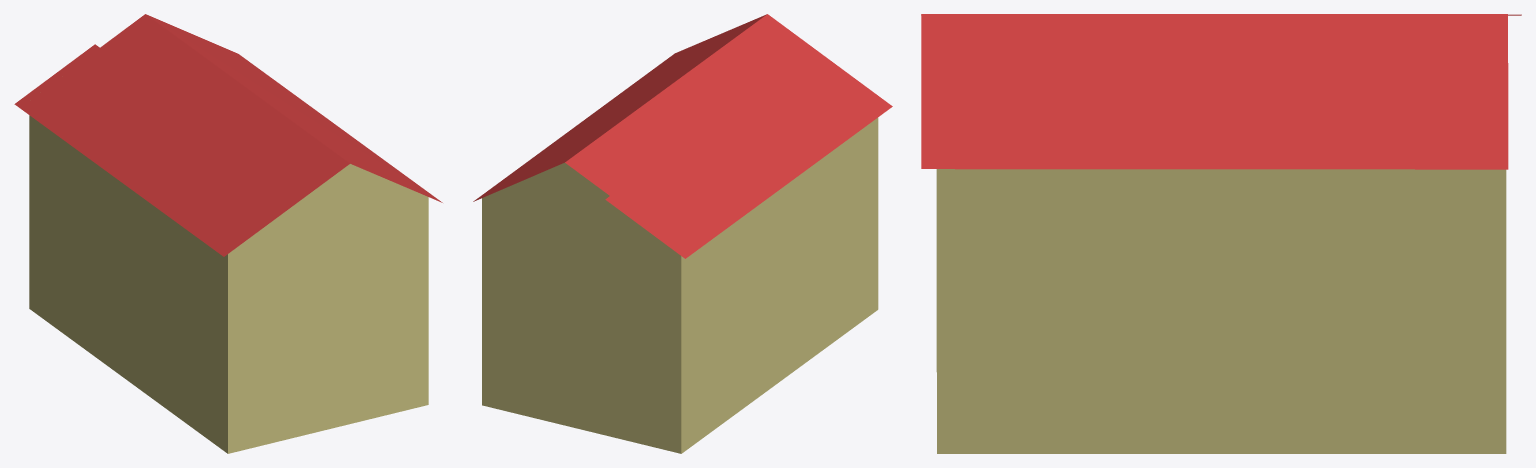
The picture shows the model from 3 angles, left to right: view 1: azimuth 30°, elevation 25°; view 2: azimuth 150°, elevation 25°; view 3: azimuth 270°, elevation 25°; orthographic projection. The views are drawn at different scales.
Bounding box in the file's own units: 5.82 × 9.6 × 6.72.
